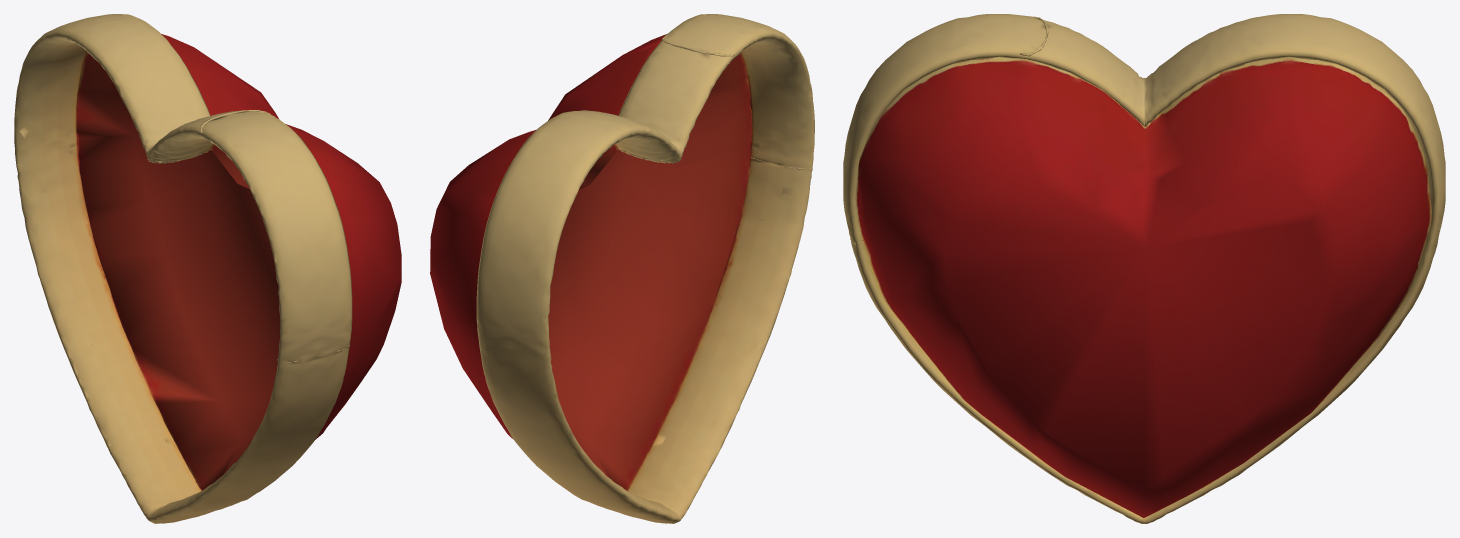
File: royal-heart.glb
The picture shows the model from 3 angles, left to right: view 1: azimuth 30°, elevation 25°; view 2: azimuth 150°, elevation 25°; view 3: azimuth 270°, elevation 25°; orthographic projection. The views are drawn at different scales.
Parts seen in each view (by area): view 1: tripo_node_ea4c93bf-ec88-4a7d-a859-2720adafd819; view 2: tripo_node_ea4c93bf-ec88-4a7d-a859-2720adafd819; view 3: tripo_node_ea4c93bf-ec88-4a7d-a859-2720adafd819.
Boxes of the visible parts, left/top/right/bottom form: tripo_node_ea4c93bf-ec88-4a7d-a859-2720adafd819: left=14, top=14, right=401, bottom=523; tripo_node_ea4c93bf-ec88-4a7d-a859-2720adafd819: left=430, top=14, right=814, bottom=523; tripo_node_ea4c93bf-ec88-4a7d-a859-2720adafd819: left=843, top=14, right=1445, bottom=523.
Bounding box in the file's own units: 0.3457 × 0.8887 × 0.998.
Materials: 1 (1 with a texture image).
